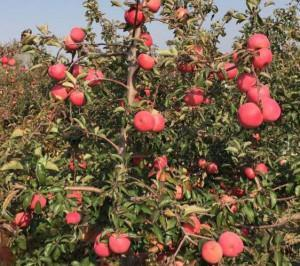apple: (237, 103, 263, 128), (218, 231, 243, 257), (132, 110, 155, 133), (259, 98, 280, 122), (202, 240, 222, 263), (246, 33, 270, 51), (109, 234, 130, 253), (236, 74, 256, 92), (253, 51, 272, 68), (124, 11, 141, 28), (138, 53, 155, 70), (249, 87, 268, 102), (48, 64, 65, 80), (69, 90, 85, 106), (70, 27, 85, 42), (94, 242, 109, 257), (66, 212, 80, 226), (207, 162, 218, 174)
